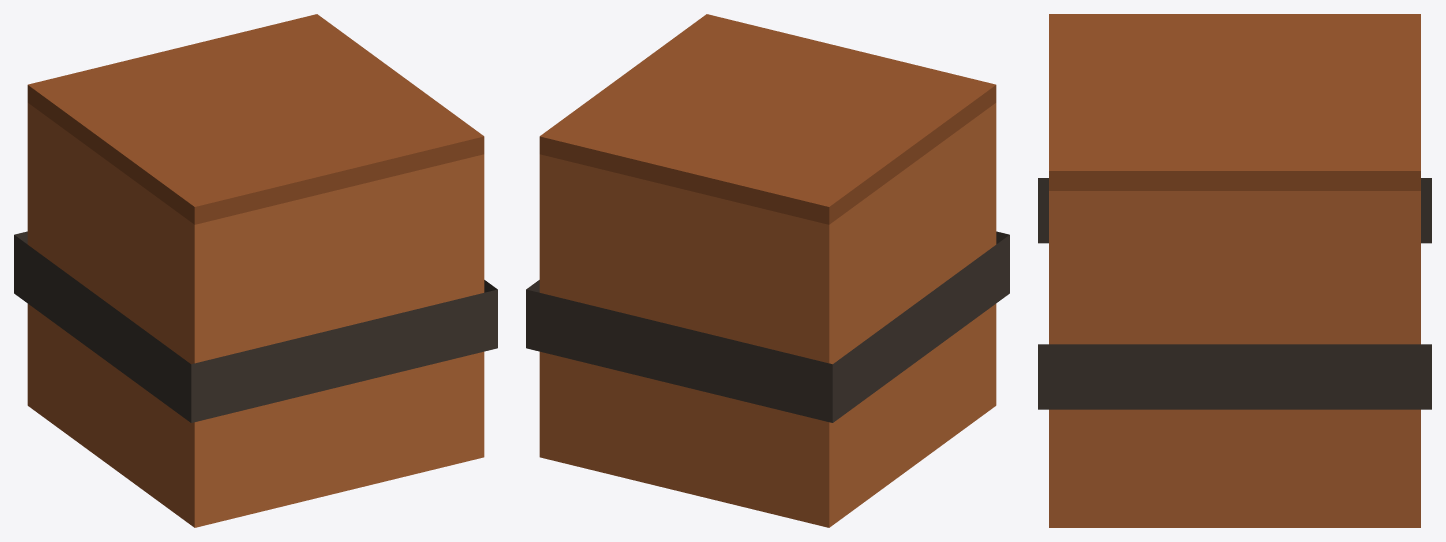
File: cargo.obj
3 views of the same model, side by side, from view 1: azimuth 30°, elevation 25°; view 2: azimuth 150°, elevation 25°; view 3: azimuth 270°, elevation 25° (orthographic). The views are drawn at different scales.
Visible parts, largest first — view 1: cargo; view 2: cargo; view 3: cargo.
Part boxes in pixels (box(x1,y1,x2,y2)): cargo: box(14, 14, 497, 527); cargo: box(526, 14, 1009, 527); cargo: box(1038, 14, 1431, 527).
Size of the model in its own units: 1.8 by 1.8 by 1.8.
